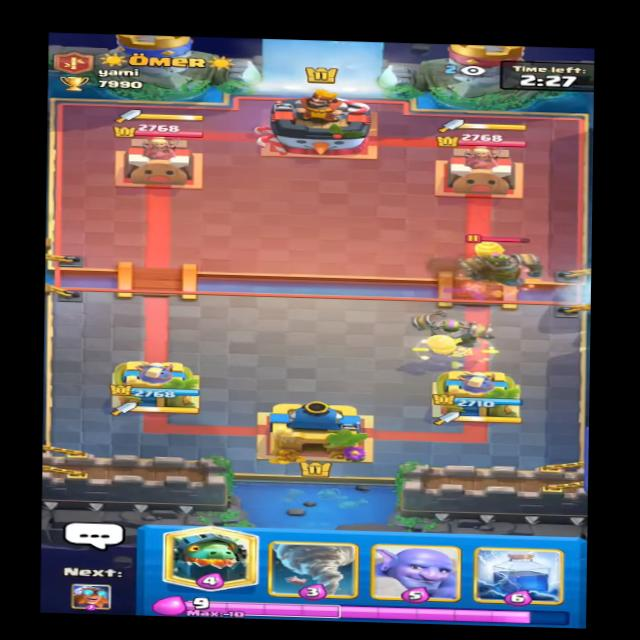goblin-machine: (452, 227, 545, 296)
